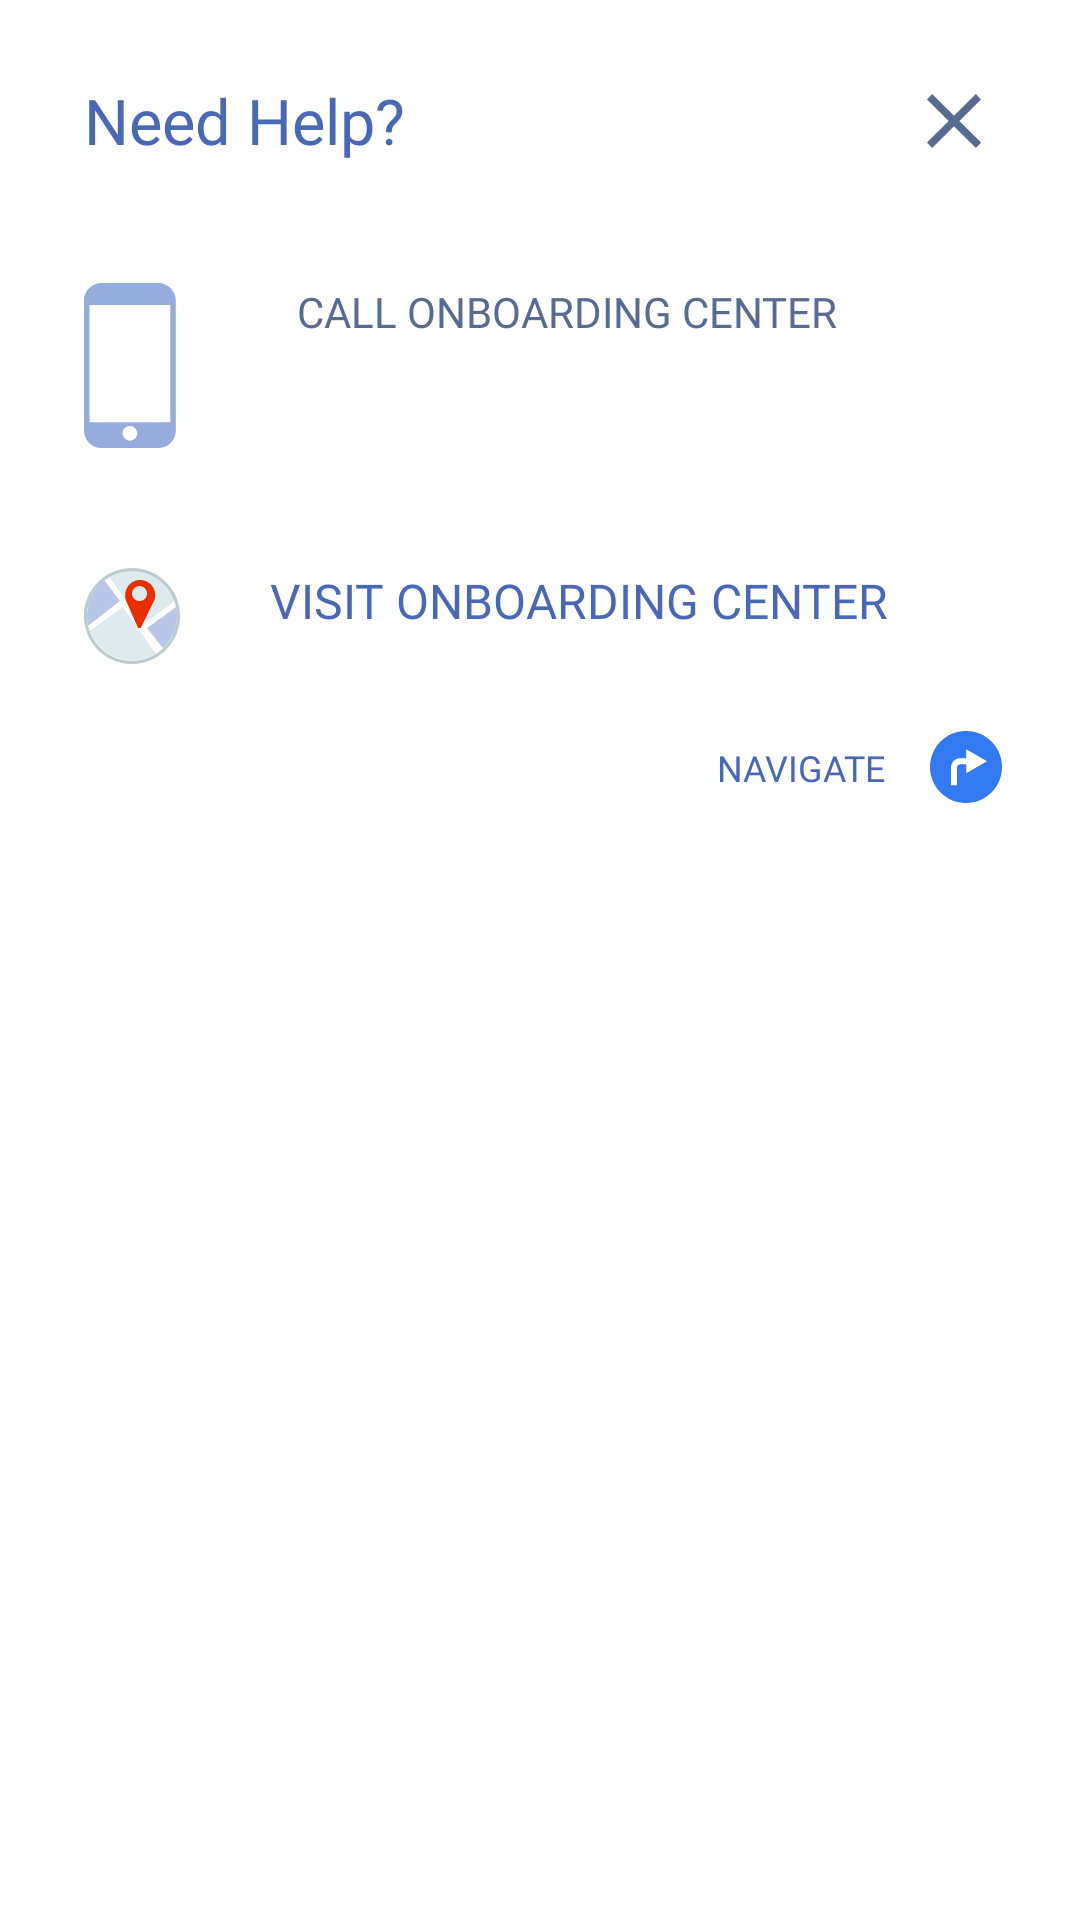

Icon bounding boxes for this 1080 × 1920 phone screenshot, format Rect(x1, y1, x2, y2):
cross: Rect(927, 94, 981, 148)
direction: Rect(930, 731, 1002, 803)
mobile: Rect(84, 283, 176, 448)
